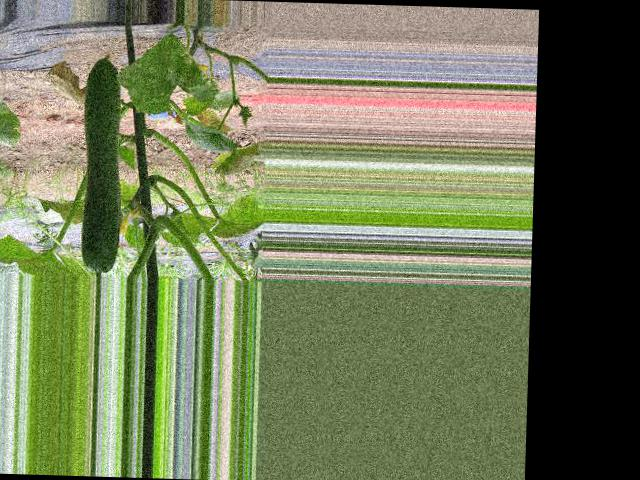cucumber: (79, 51, 125, 272)
